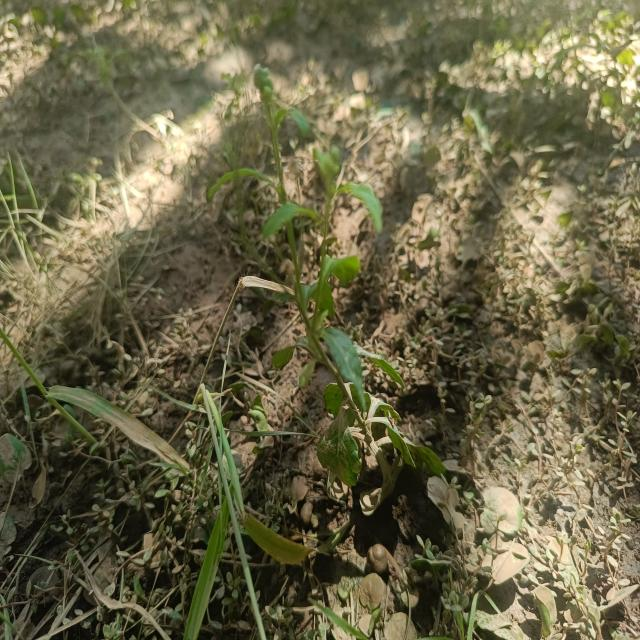weed: (201, 62, 448, 503)
